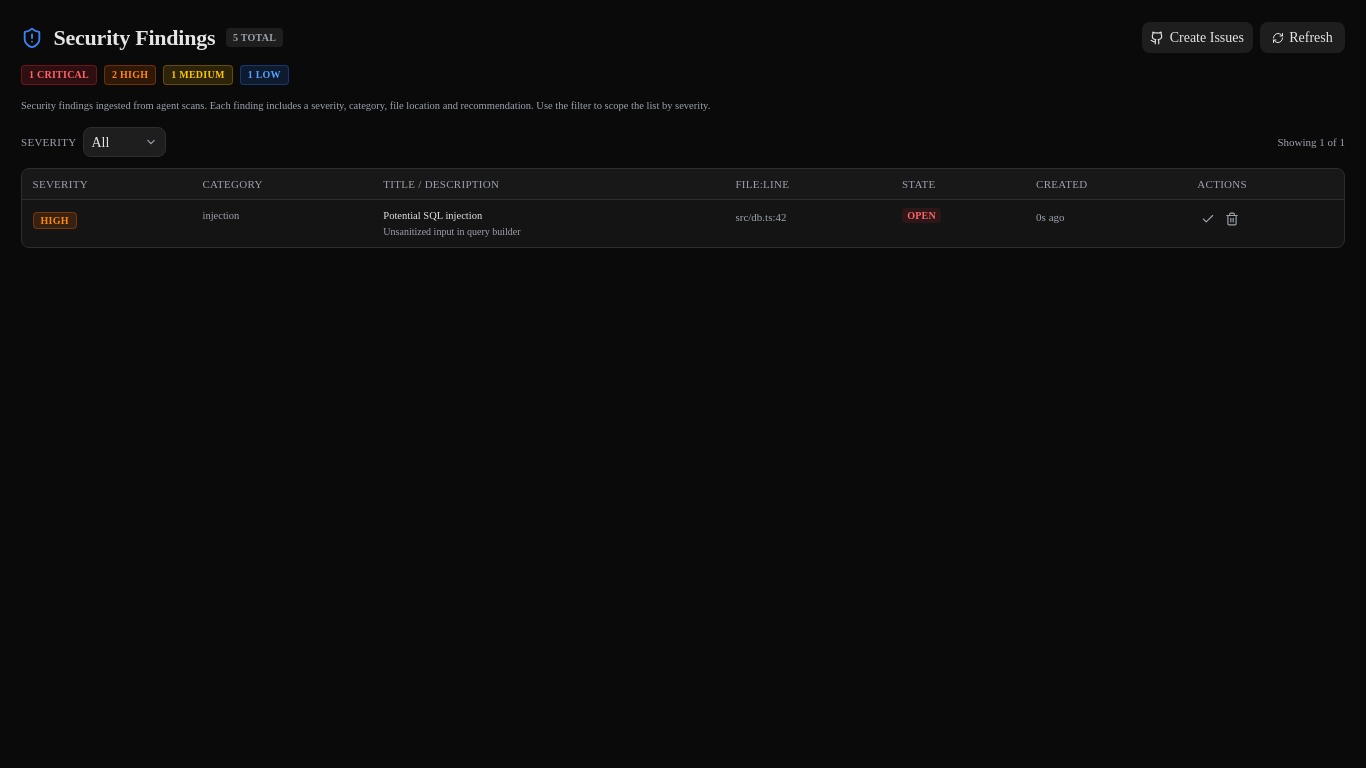
Test: SecurityFindingsPage › dismiss action › closes the dialog when cancel is clicked
Click the button with test id "dismiss-btn-f-1".
click(1232, 219)  # box [1222,209,1243,230]
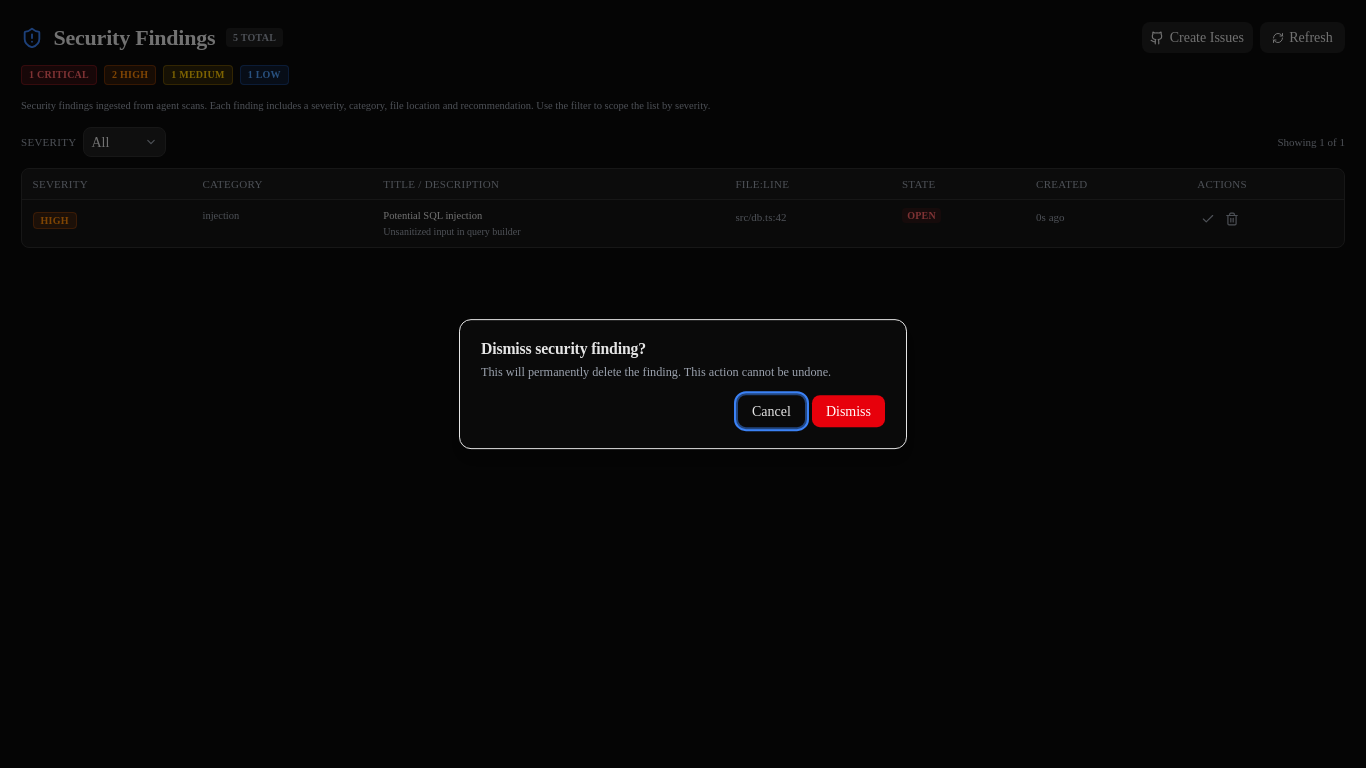
Check: the button with test id "confirm-dialog-cancel" is shown
Click the button with test id "confirm-dialog-cancel".
click(771, 411)  # box [738,395,805,427]
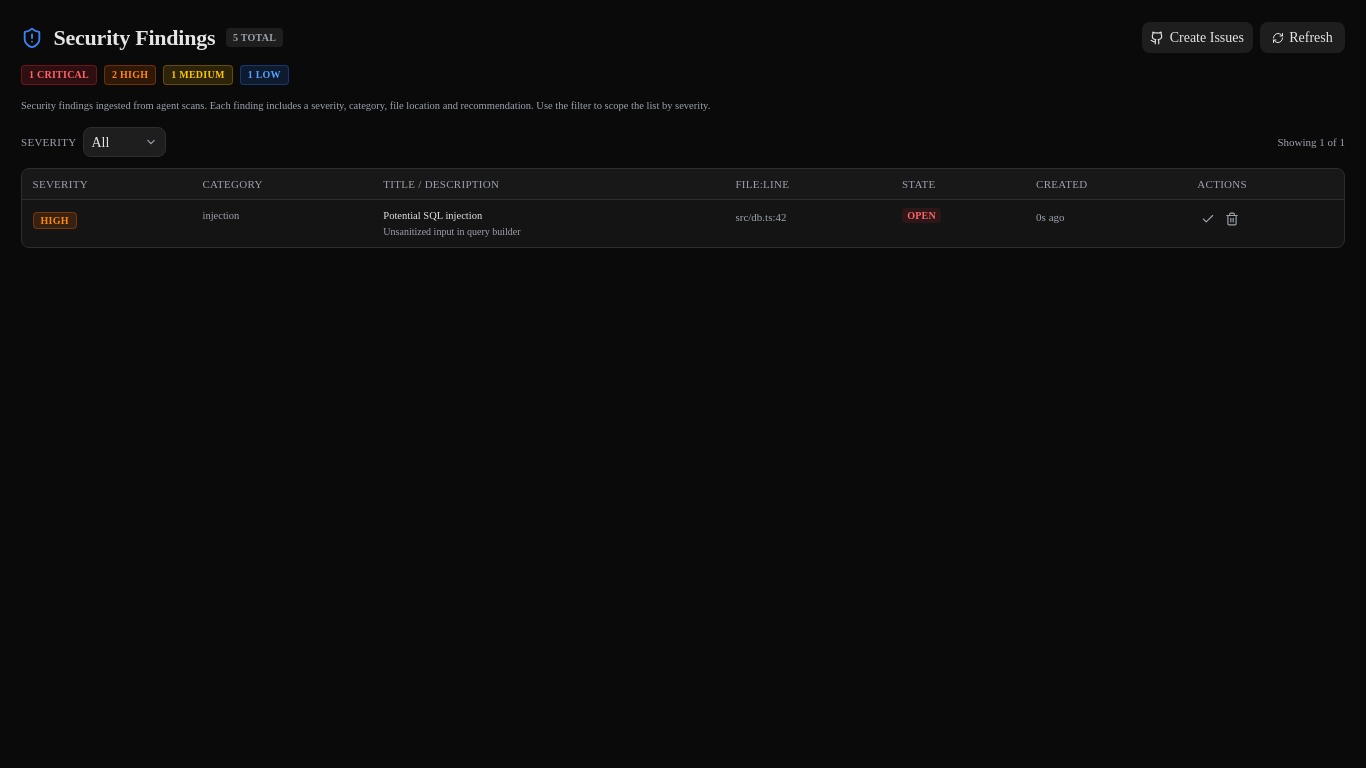
Check: the dialog with test id "confirm-dialog" is gone
